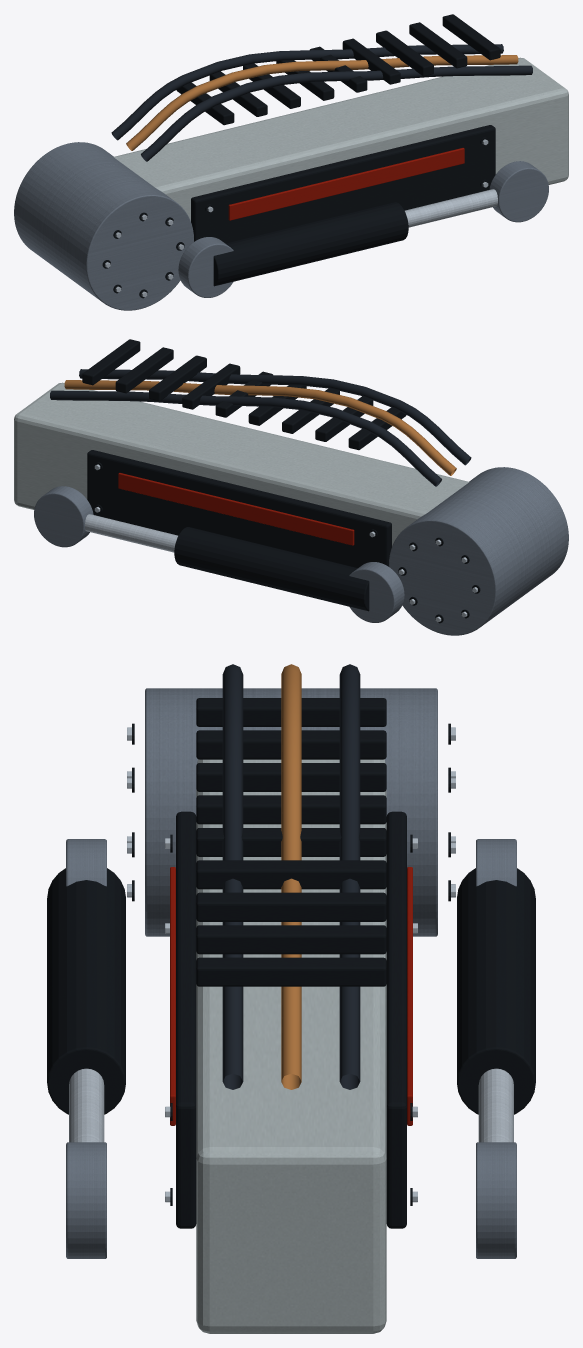
Rendered from forearm.glb.
3 views of the same model, one above another, from view 1: azimuth 30°, elevation 25°; view 2: azimuth 150°, elevation 25°; view 3: azimuth 270°, elevation 25° (orthographic). The views are drawn at different scales.
Visible parts, largest first — view 1: forearm; view 2: forearm; view 3: forearm.
Part boxes in pixels (<box>): forearm: <box>14,14,568,310</box>; forearm: <box>14,339,568,635</box>; forearm: <box>47,664,535,1333</box>.
Bounding box in the file's own units: 0.785 × 0.2693 × 0.334.
Materials: 7 (5 with a texture image).
